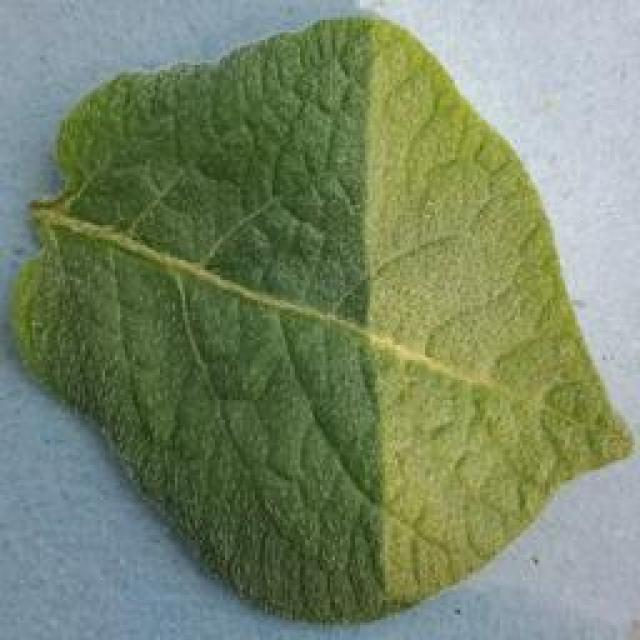Potato_Healthy: (5, 4, 632, 635)
